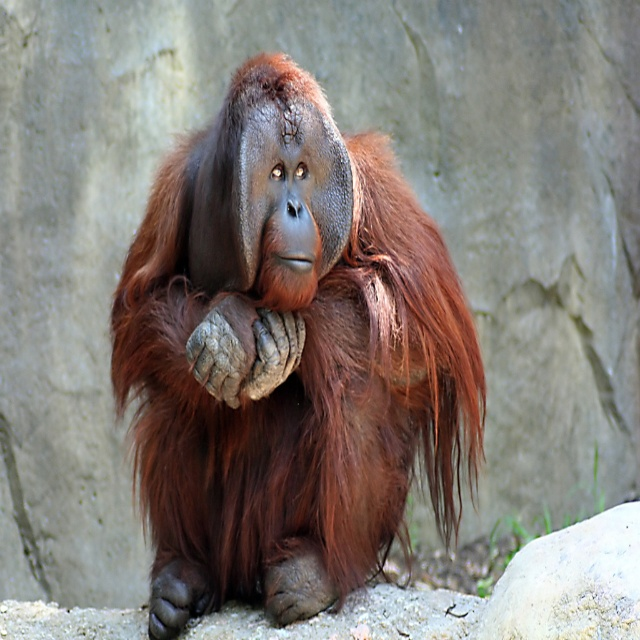Monkey: (94, 50, 508, 640)
